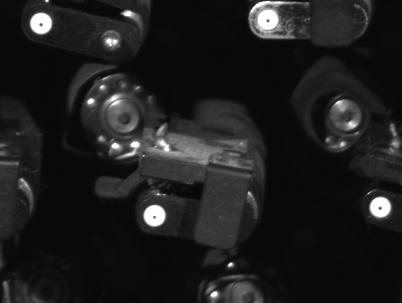fiber: (364, 194, 395, 222), (28, 10, 57, 37), (143, 201, 169, 229), (256, 7, 282, 32)
